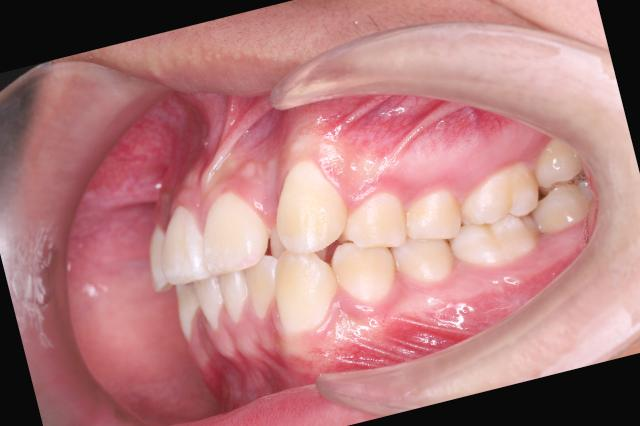canine class II 1/4: (243, 140, 410, 344)
molar class I: (436, 157, 556, 284)
